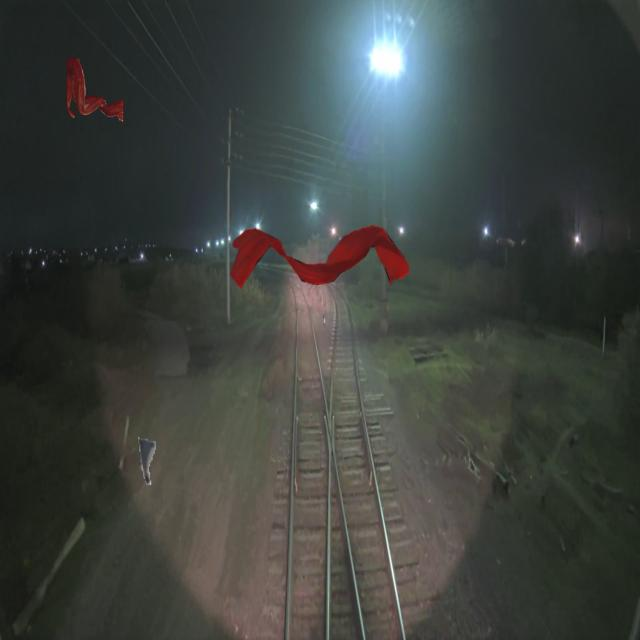floating object: (230, 225, 409, 289), (67, 57, 123, 121)
plastic bag: (137, 422, 156, 487)
